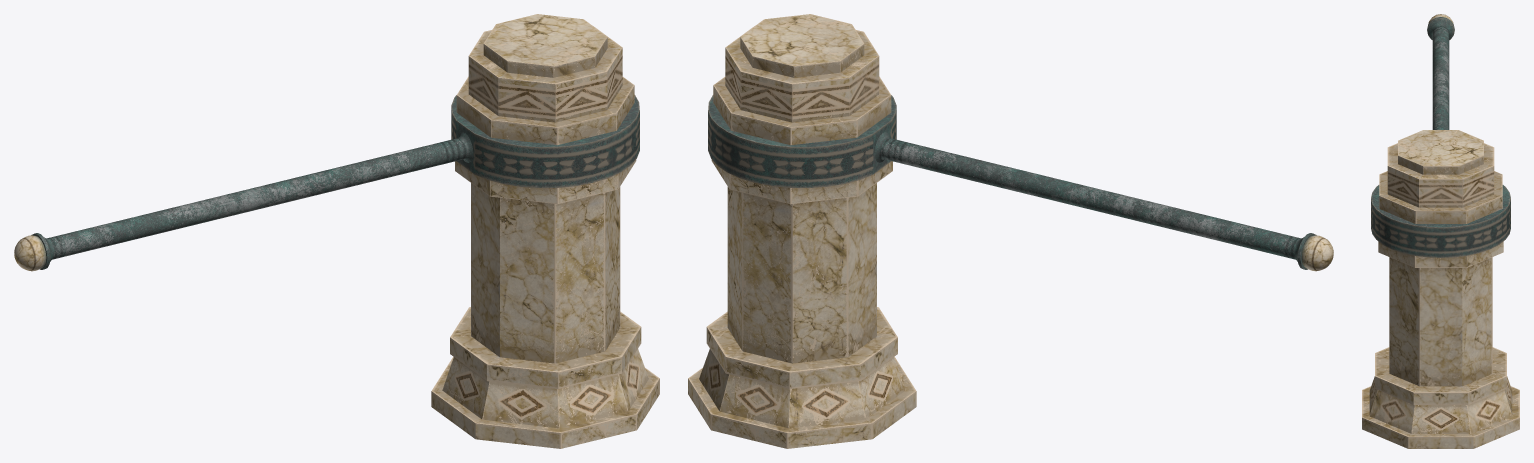
File: mechanism1.fbx
3 renders of one model, left to right at view 1: azimuth 30°, elevation 25°; view 2: azimuth 150°, elevation 25°; view 3: azimuth 270°, elevation 25°, orthographic. The views are drawn at different scales.
Visible parts, largest first — view 1: mechanism1_base, lever; view 2: mechanism1_base, lever; view 3: mechanism1_base, lever.
Part boxes in pixels (bbox=[...]): mechanism1_base: bbox=[431, 14, 659, 448]; lever: bbox=[14, 95, 639, 271]; mechanism1_base: bbox=[688, 14, 916, 448]; lever: bbox=[708, 95, 1333, 271]; mechanism1_base: bbox=[1362, 130, 1519, 448]; lever: bbox=[1371, 14, 1510, 257].
Size of the model in its own units: 289 by 160 by 85.58.
